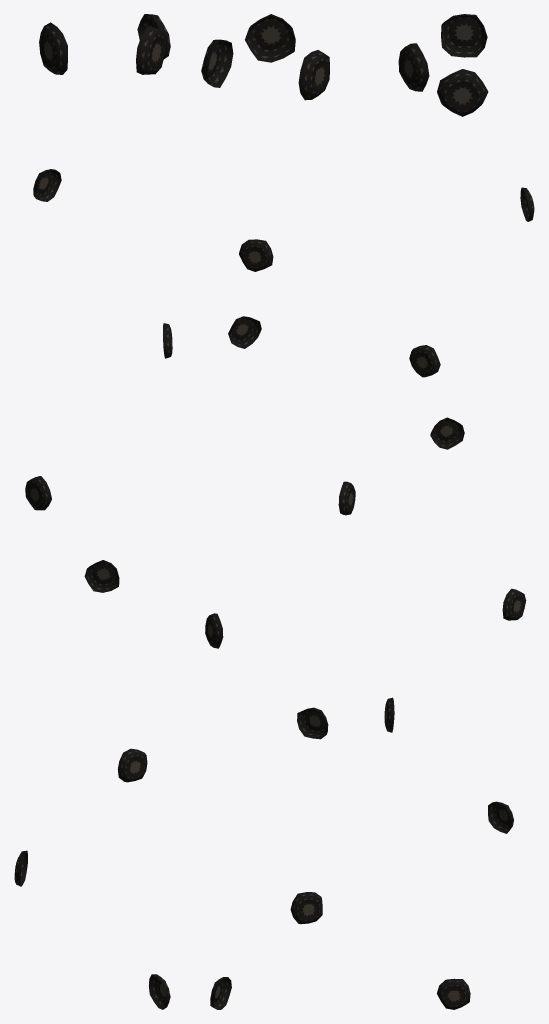
File: Sitka_OldLarge_02_LowPruned_Healed_LOD1.fbx
3 renders of one model, left to right at view 1: azimuth 30°, elevation 25°; view 2: azimuth 150°, elevation 25°; view 3: azimuth 270°, elevation 25°, orthographic. The views are drawn at different scales.
Parts seen in each view (by area): view 1: Sitka_OldLarge_02_LowPruned_Healed_LOD1_Scars; view 2: Sitka_OldLarge_02_LowPruned_Healed_LOD1_Scars; view 3: Sitka_OldLarge_02_LowPruned_Healed_LOD1_Scars.
Part boxes in pixels (x1,y1,x2,y2): Sitka_OldLarge_02_LowPruned_Healed_LOD1_Scars: (14, 14, 172, 1009); Sitka_OldLarge_02_LowPruned_Healed_LOD1_Scars: (201, 14, 355, 1009); Sitka_OldLarge_02_LowPruned_Healed_LOD1_Scars: (384, 14, 534, 1009).
Size of what is drawn, in the model's own units: 64.47 by 453 by 64.76.
Materials: 2 (2 with a texture image).
